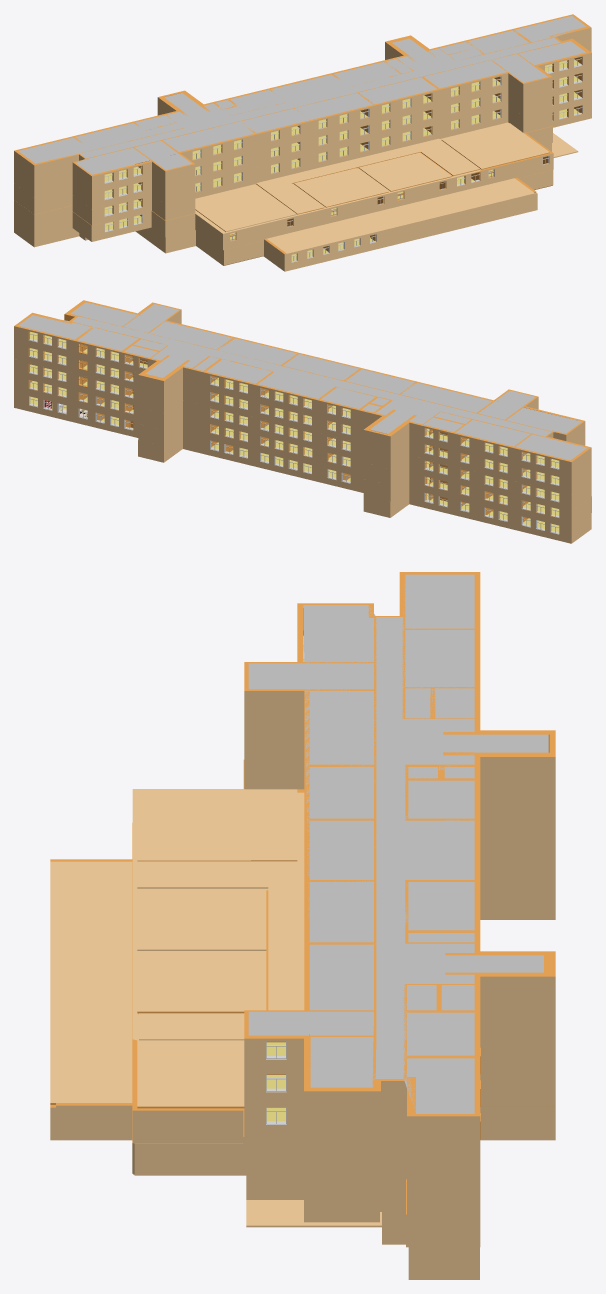
The model's file is isit.fbx.
3 renders of one model, top to bottom at view 1: azimuth 30°, elevation 25°; view 2: azimuth 150°, elevation 25°; view 3: azimuth 270°, elevation 25°, orthographic. The views are drawn at different scales.
Parts seen in each view (by area): view 1: Куб.014, 2 этаж, Куб.013, Куб.011, Куб.059, Куб.015; view 2: Куб.014, Куб.011, Куб.059, 2 этаж, Куб.013, Куб.015, Окна; view 3: Куб.014, 2 этаж, Куб.013, Куб.011, Куб.059.
Part boxes in pixels (left/top/right/bottom): Куб.014: left=14, top=14, right=591, bottom=192; 2 этаж: left=14, top=102, right=591, bottom=250; Куб.013: left=14, top=133, right=578, bottom=271; Куб.011: left=14, top=44, right=591, bottom=208; Куб.059: left=14, top=85, right=591, bottom=225; Куб.015: left=104, top=105, right=582, bottom=241; Куб.014: left=14, top=300, right=591, bottom=478; Куб.011: left=14, top=342, right=591, bottom=494; Куб.059: left=14, top=359, right=591, bottom=511; 2 этаж: left=14, top=375, right=591, bottom=527; Куб.013: left=14, top=391, right=591, bottom=543; Куб.015: left=29, top=380, right=559, bottom=517; Окна: left=29, top=396, right=559, bottom=533; Куб.014: left=244, top=572, right=555, bottom=1148; 2 этаж: left=132, top=760, right=555, bottom=1247; Куб.013: left=50, top=823, right=555, bottom=1279; Куб.011: left=244, top=723, right=555, bottom=1181; Куб.059: left=244, top=756, right=555, bottom=1214.
Bounding box in the file's own units: 461 × 64.52 × 181.
